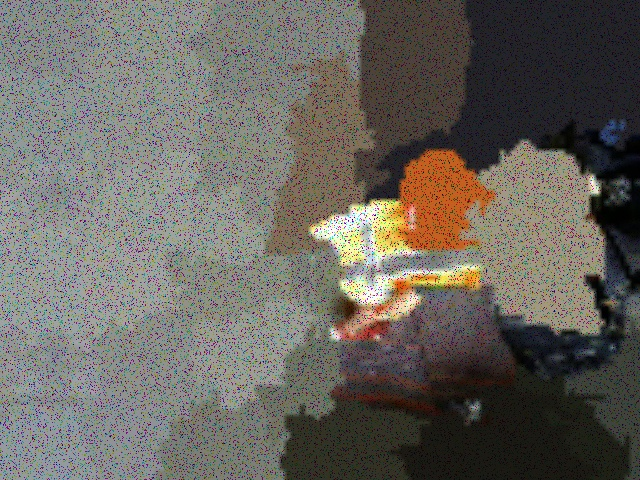one: (540, 164, 578, 201)
